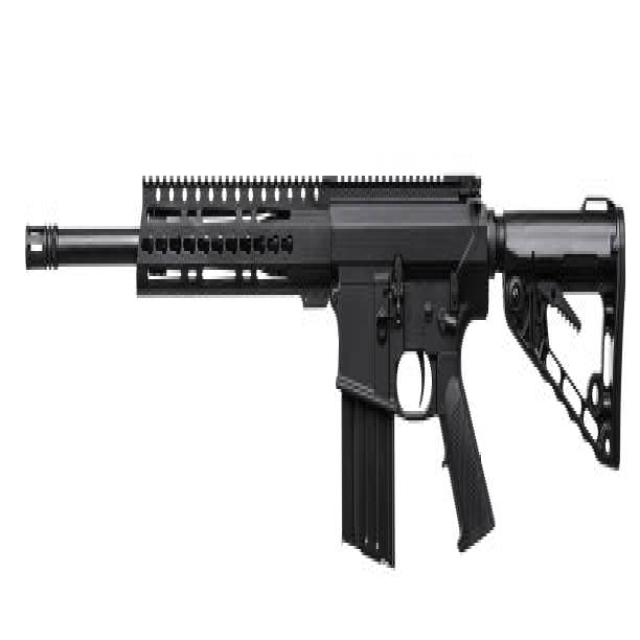rifle: (17, 145, 629, 591)
